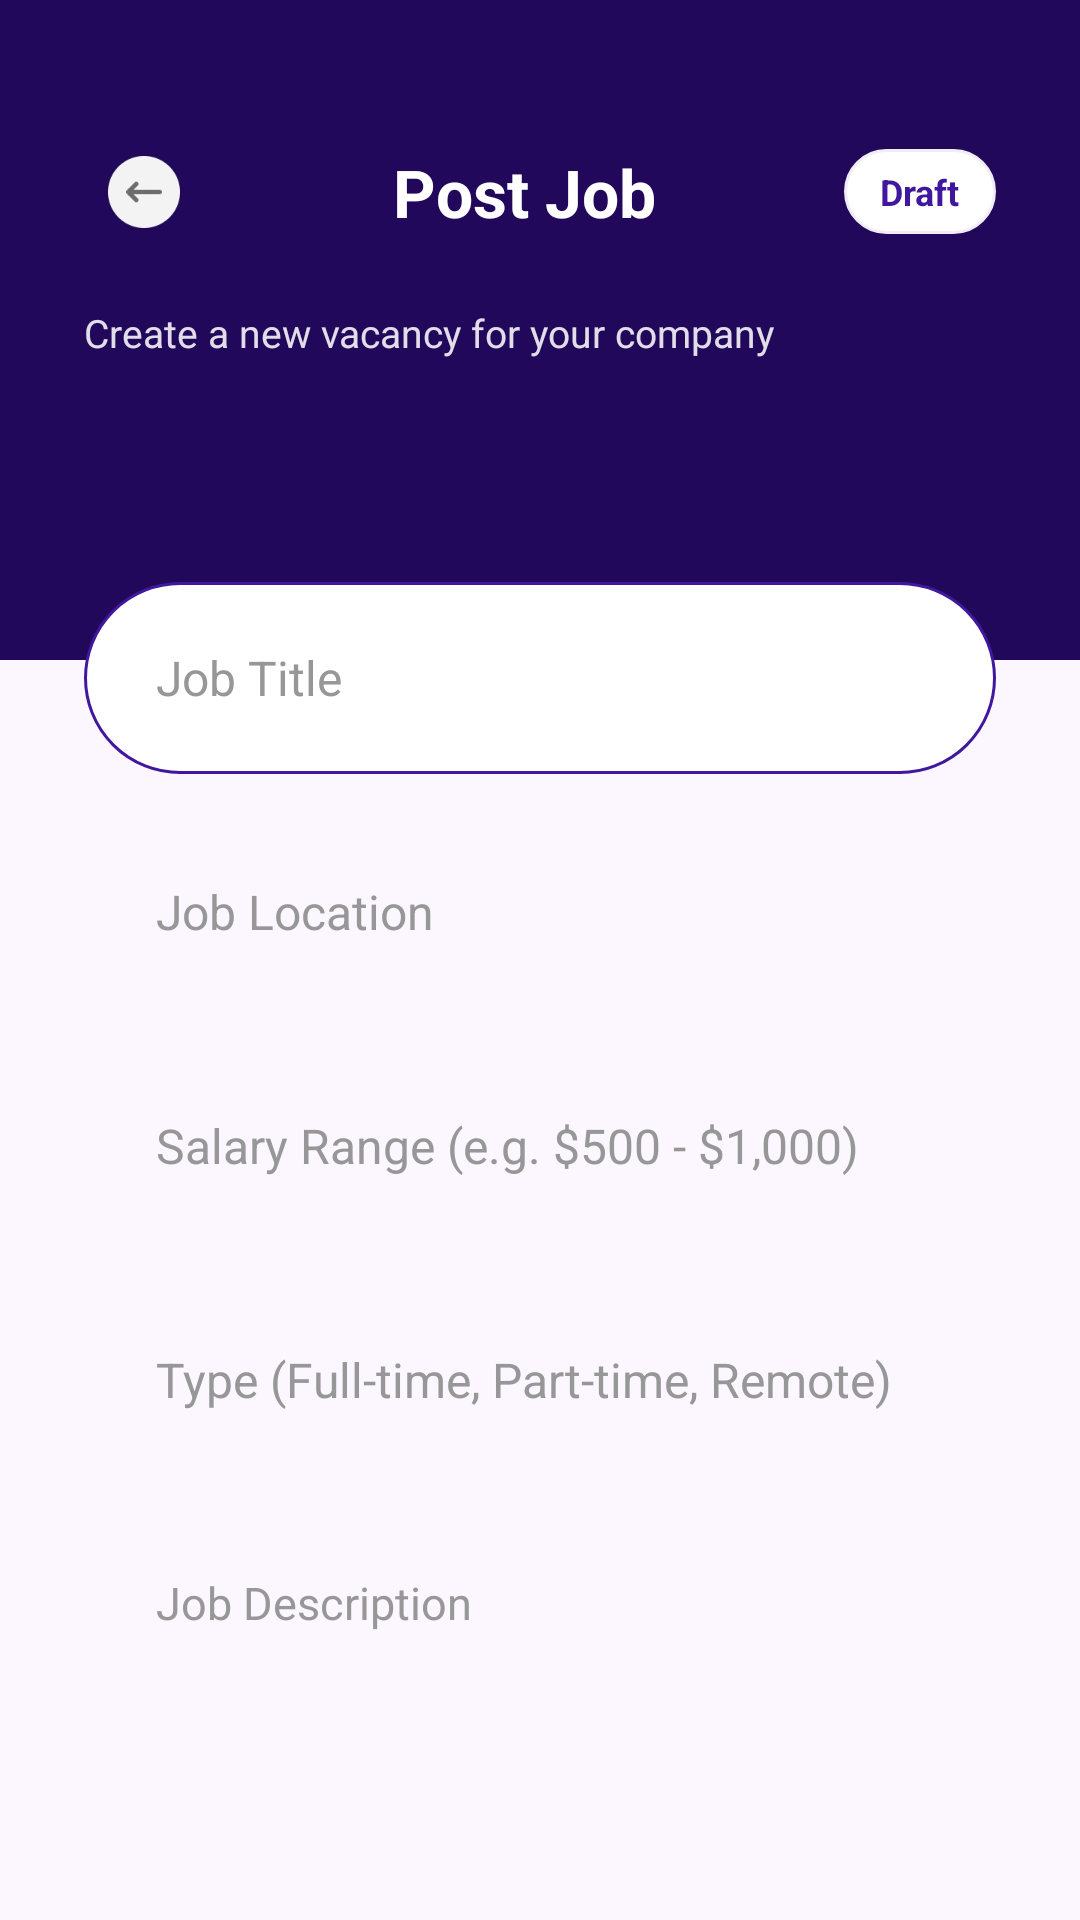

Named icons in this screenshot (1080 × 1920) and their centers, point (x, y):
Back: point (144, 192)
